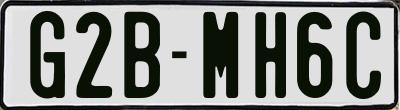2: (73, 12, 112, 100)
6: (294, 9, 330, 101)
B: (123, 9, 162, 96)
C: (344, 9, 382, 97)
G: (27, 10, 68, 102)
H: (254, 9, 286, 96)
M: (200, 12, 238, 104)
